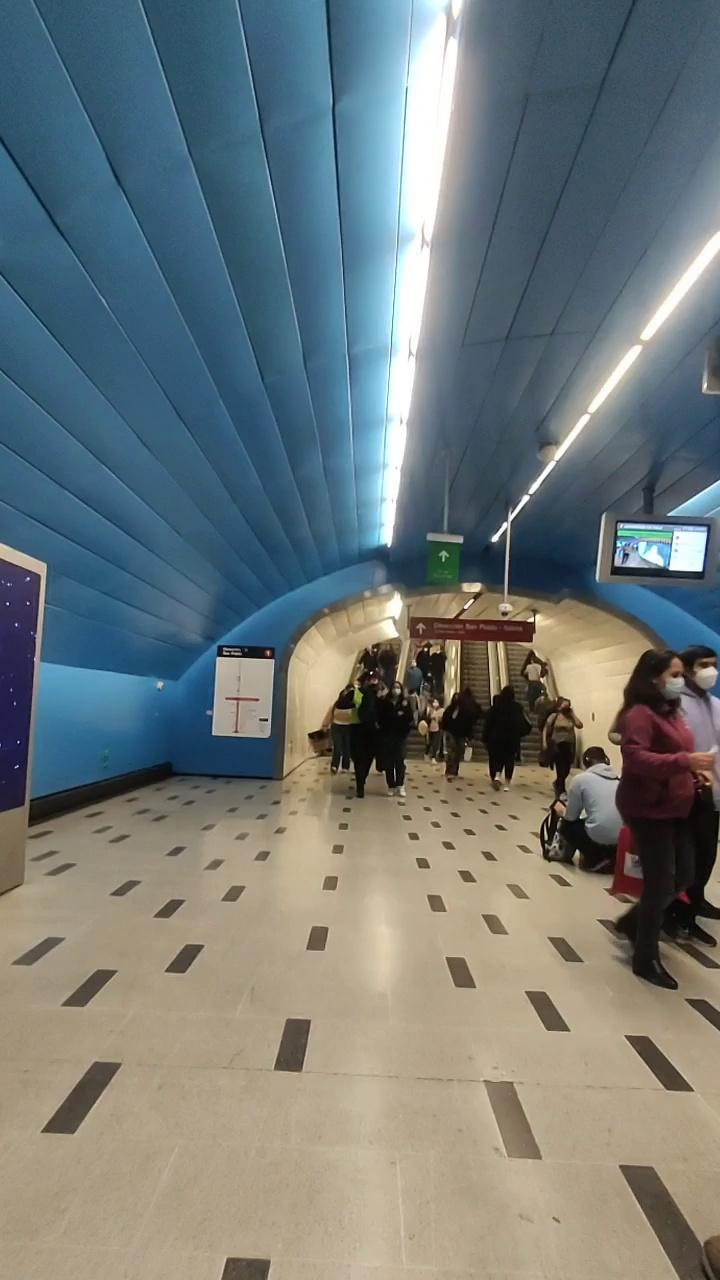up arrow: (413, 621, 428, 638)
